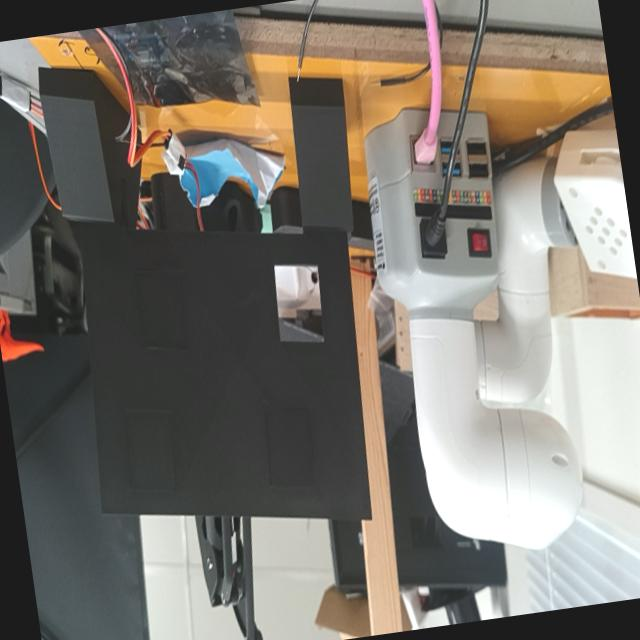Obstacle: (272, 265, 324, 344)
Wall: (79, 227, 371, 517)
